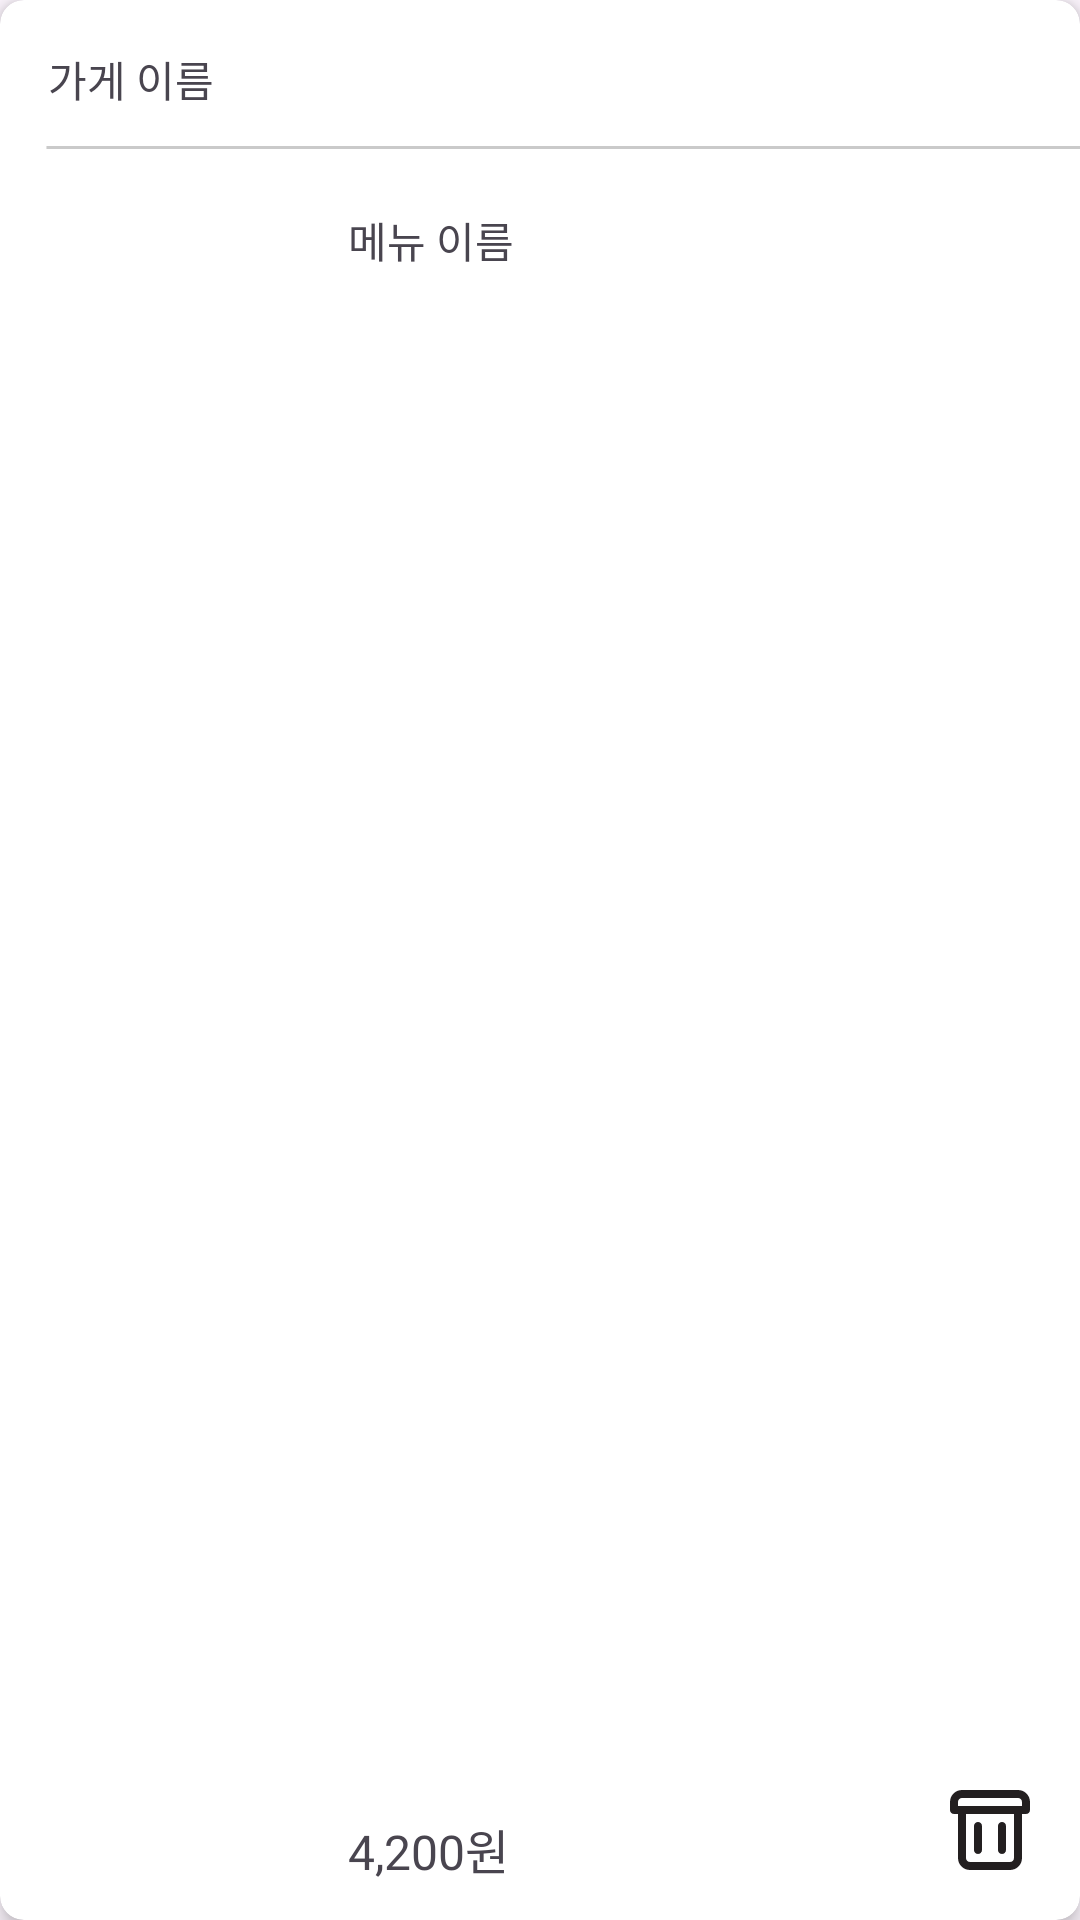

Named icons in this screenshot (1080×1920) and their bounding boxes, (x1, y1, x2, y2):
trash: (950, 1790, 1030, 1870)
